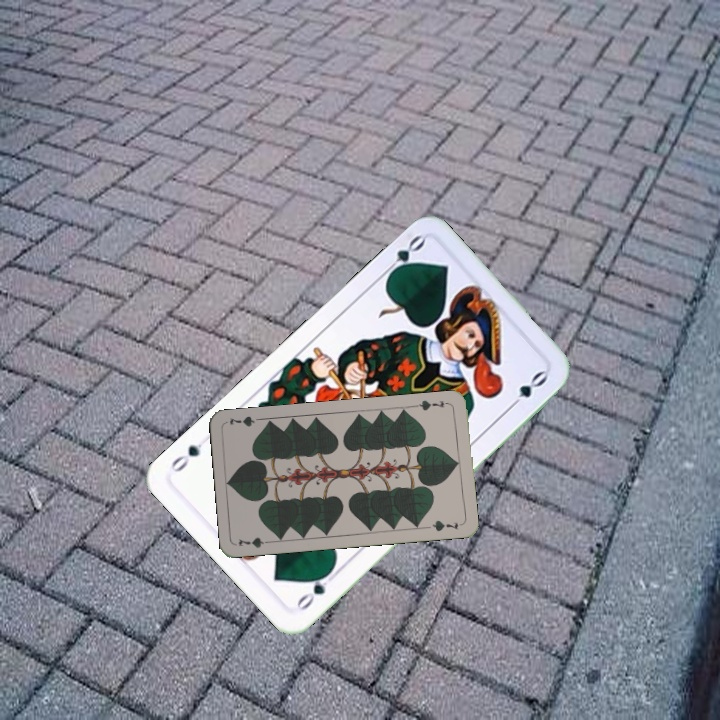G7: (234, 533, 275, 550), (411, 396, 452, 413)
GO: (378, 231, 428, 282), (292, 565, 340, 614)
